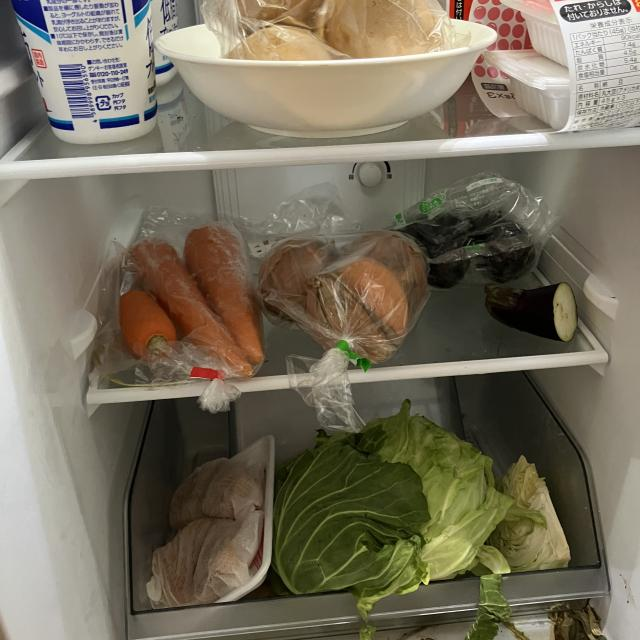cabbage: (269, 402, 499, 612), (493, 451, 574, 581)
carrot: (130, 236, 257, 379), (182, 224, 270, 368), (115, 289, 181, 368)
eggplant: (454, 208, 545, 281), (486, 279, 580, 347), (400, 216, 474, 292)
onion: (312, 256, 411, 364), (256, 236, 346, 328), (342, 230, 431, 317)
